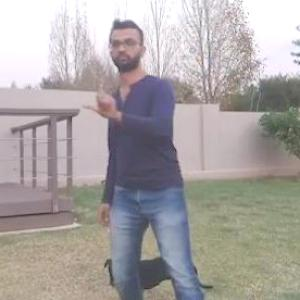land_hand: (80, 77, 120, 122)
